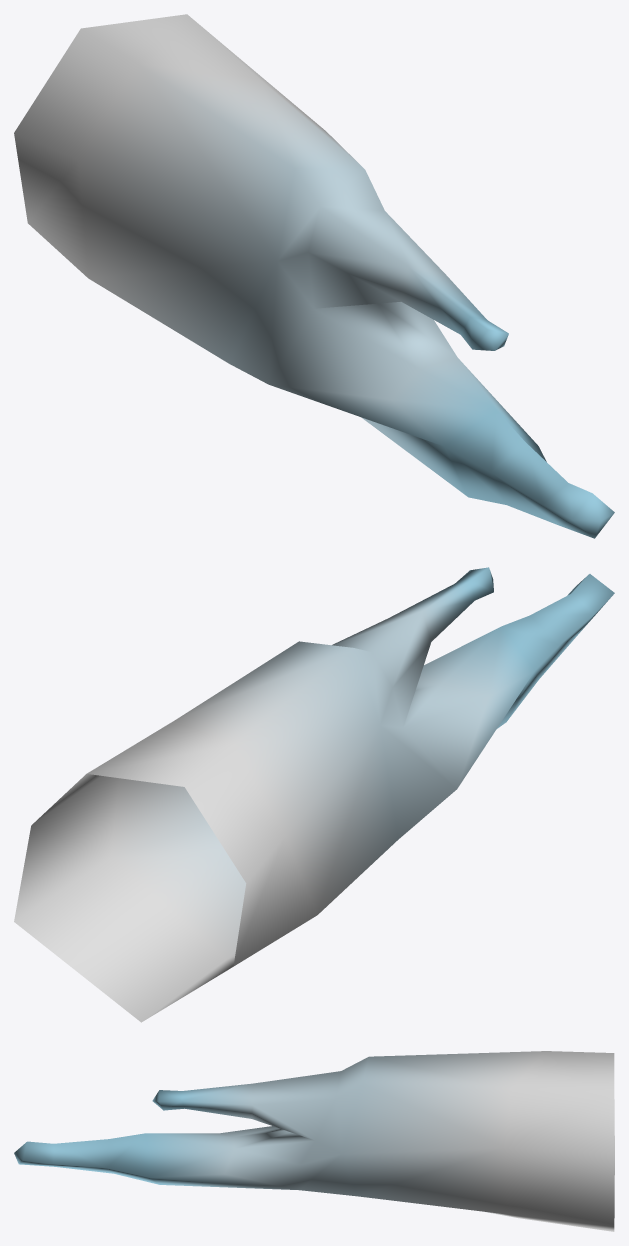
The model's file is Stalactites_IceA_lod1.glb.
3 renders of one model, top to bottom at view 1: azimuth 30°, elevation 25°; view 2: azimuth 150°, elevation 25°; view 3: azimuth 270°, elevation 25°, orthographic. The views are drawn at different scales.
Visible parts, largest first — view 1: MeshNode_0; view 2: MeshNode_0; view 3: MeshNode_0.
Boxes of the visible parts, <box> form: MeshNode_0: <box>14,14,614,538</box>; MeshNode_0: <box>14,567,614,1022</box>; MeshNode_0: <box>14,1051,614,1231</box>.
Size of the model in its own units: 3.13 by 3.2 by 10.41.
